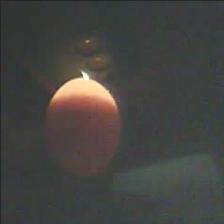fertile: (39, 72, 125, 180)
